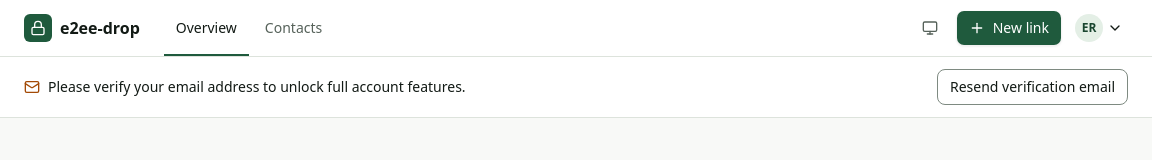
Scenario: NavBar email verification banner › on a 429, shows a message but still shows the cooldown since the user is presently rate-limited
This screenshot has width=1152, height=160.
Step 1. Click the button with test id "resend-verification-button" → [1032, 87], box [937,69,1128,105]
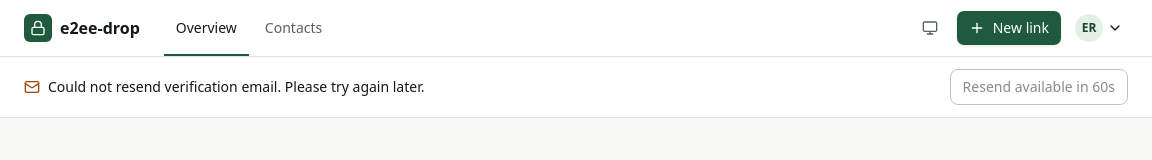
Now the text "Could not resend verification email. Please try again later." is shown, box [48,77,424,97]
Now the button with test id "resend-verification-button" is disabled, box [950,69,1128,105]
